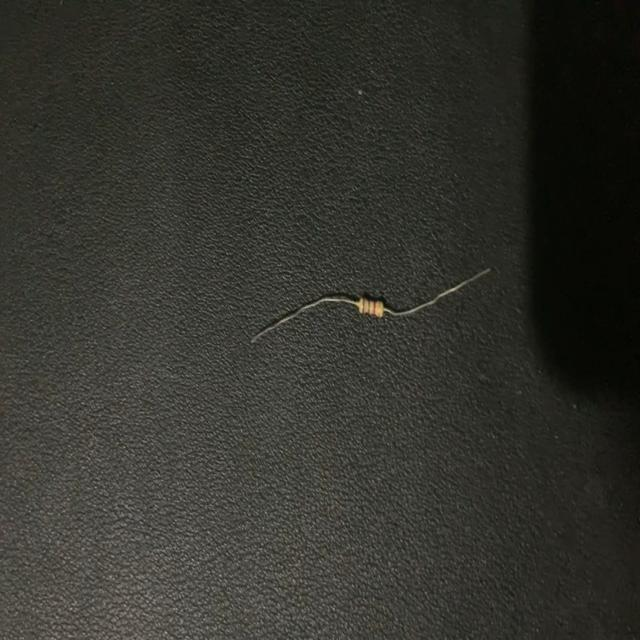resistor: (254, 273, 491, 339)
